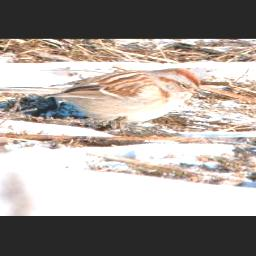Sparrow: (0, 66, 208, 136)
